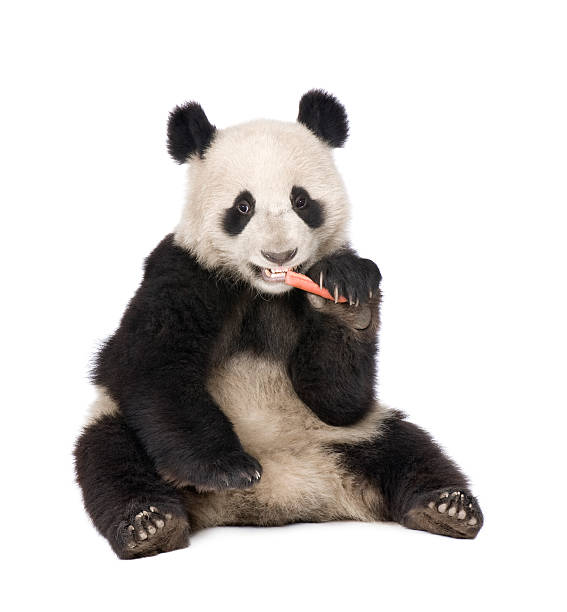panda: (92, 76, 406, 324)
